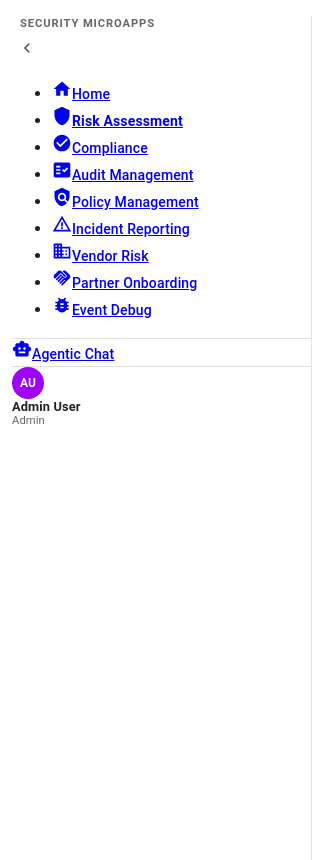
SideNav › shows expand button when collapsed
The width and height of the screenshot is (332, 860).
Click the button named "collapse navigation" at (27, 48), box [12,33,42,63]
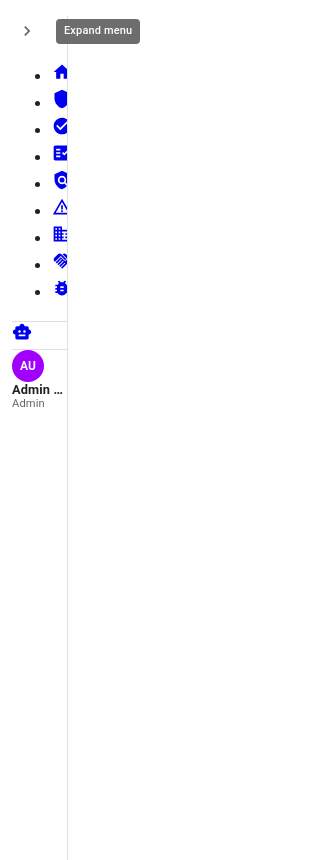
Now the button named "expand navigation" is shown, box [12,16,42,46]
